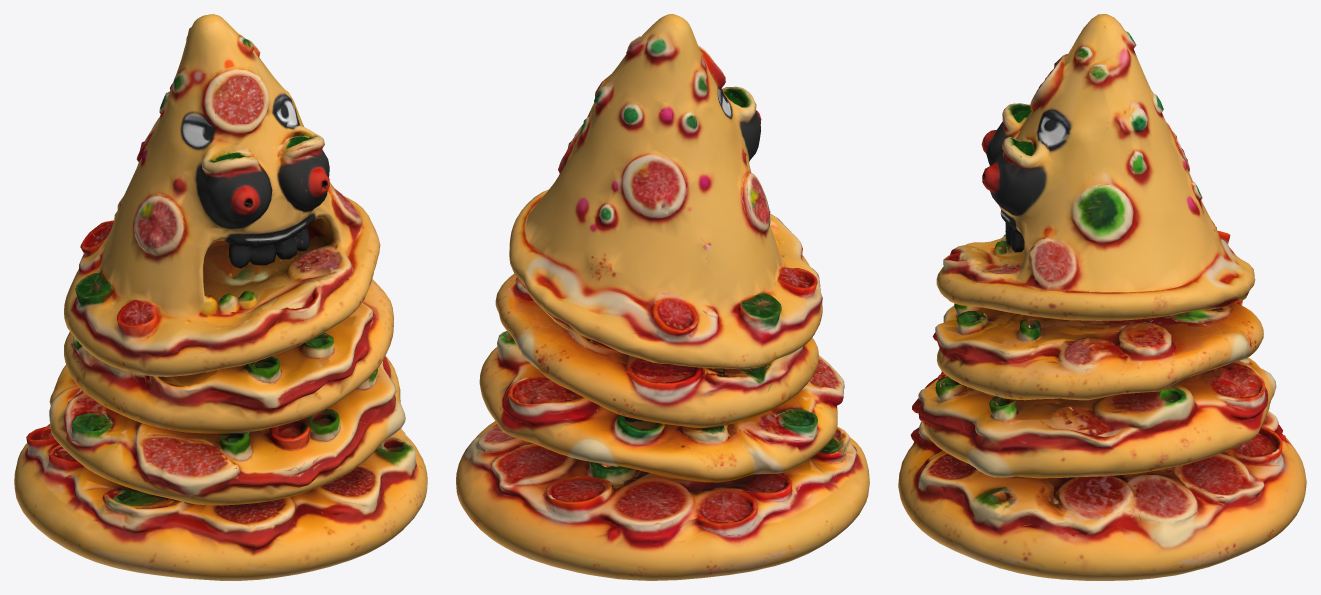
File: refine.glb
The picture shows the model from 3 angles, left to right: view 1: azimuth 30°, elevation 25°; view 2: azimuth 150°, elevation 25°; view 3: azimuth 270°, elevation 25°; orthographic projection.
Size of the model in its own units: 1.46 by 1.91 by 1.46.
Materials: 1 (1 with a texture image).
